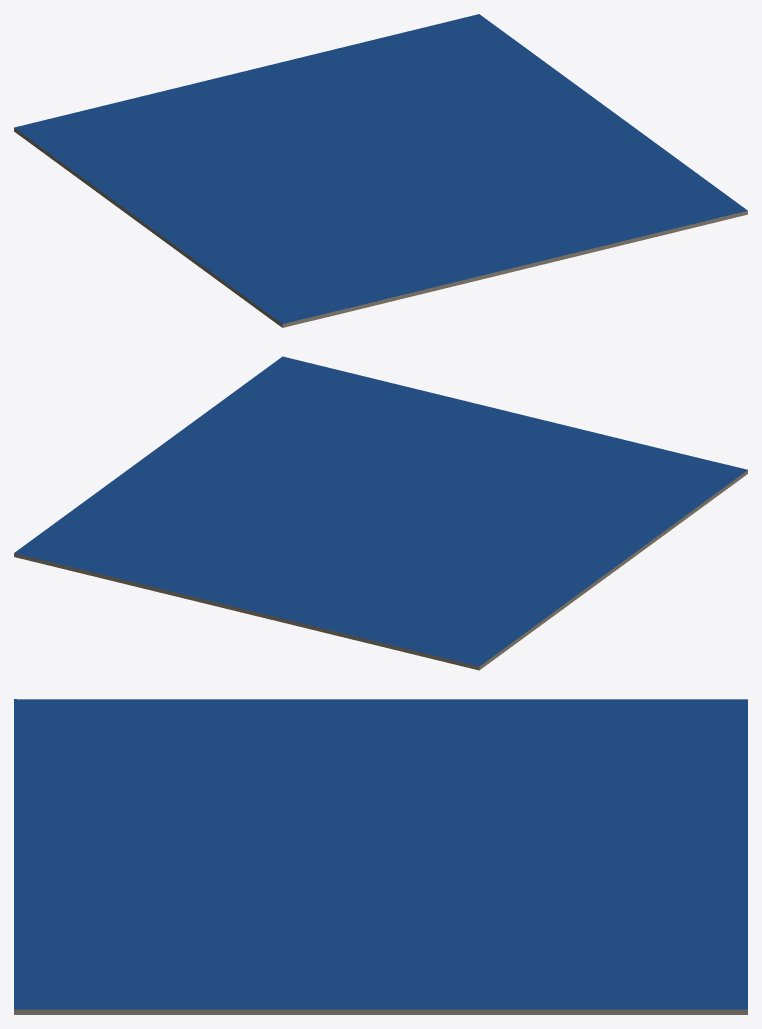
Rendered from parca_+6_+3-uzak.glb.
3 views of the same model, one above another, from view 1: azimuth 30°, elevation 25°; view 2: azimuth 150°, elevation 25°; view 3: azimuth 270°, elevation 25° (orthographic). The views are drawn at different scales.
Visible parts, largest first — view 1: parca_+6_+3_arazi_uzak; view 2: parca_+6_+3_arazi_uzak; view 3: parca_+6_+3_arazi_uzak.
Boxes of the visible parts, left/top/right/bottom form: parca_+6_+3_arazi_uzak: left=14, top=14, right=747, bottom=327; parca_+6_+3_arazi_uzak: left=14, top=356, right=747, bottom=670; parca_+6_+3_arazi_uzak: left=14, top=699, right=747, bottom=1014.
Bounding box in the file's own units: 1000 × 8.37 × 1000.
